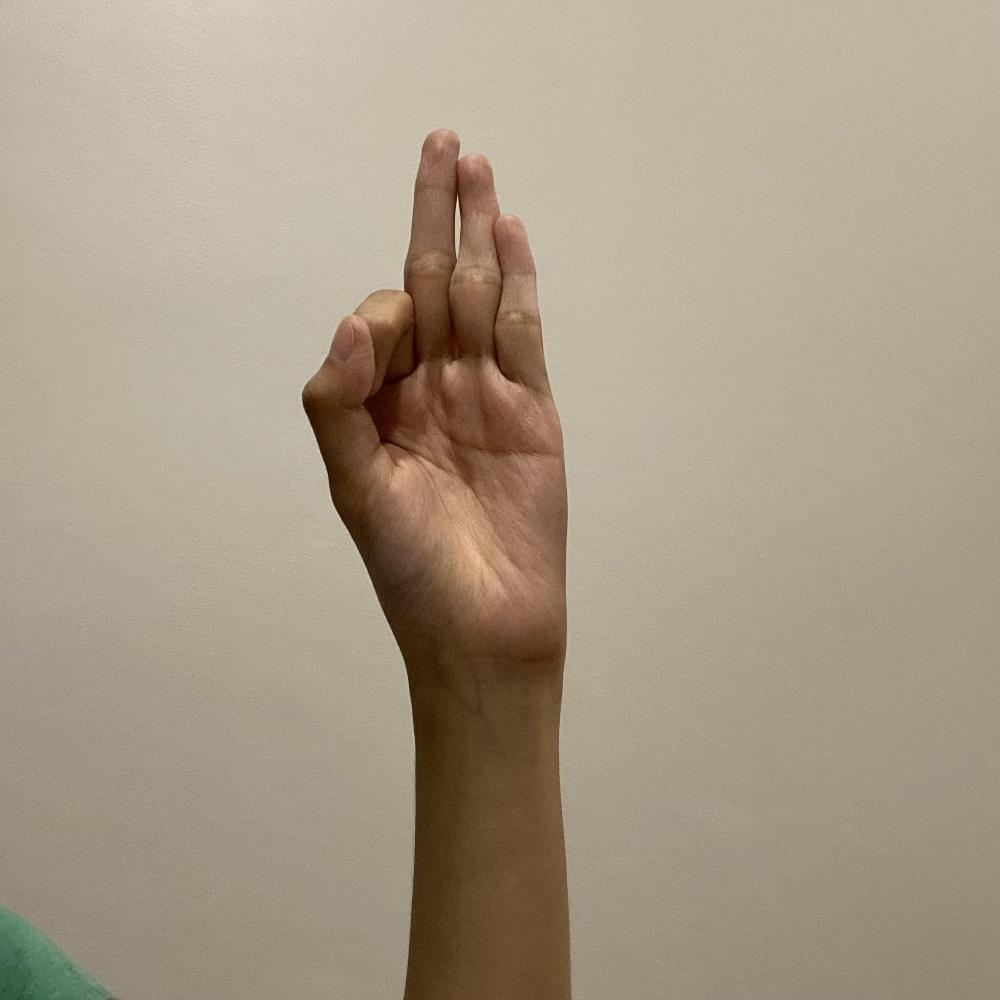f: (293, 121, 573, 665)
